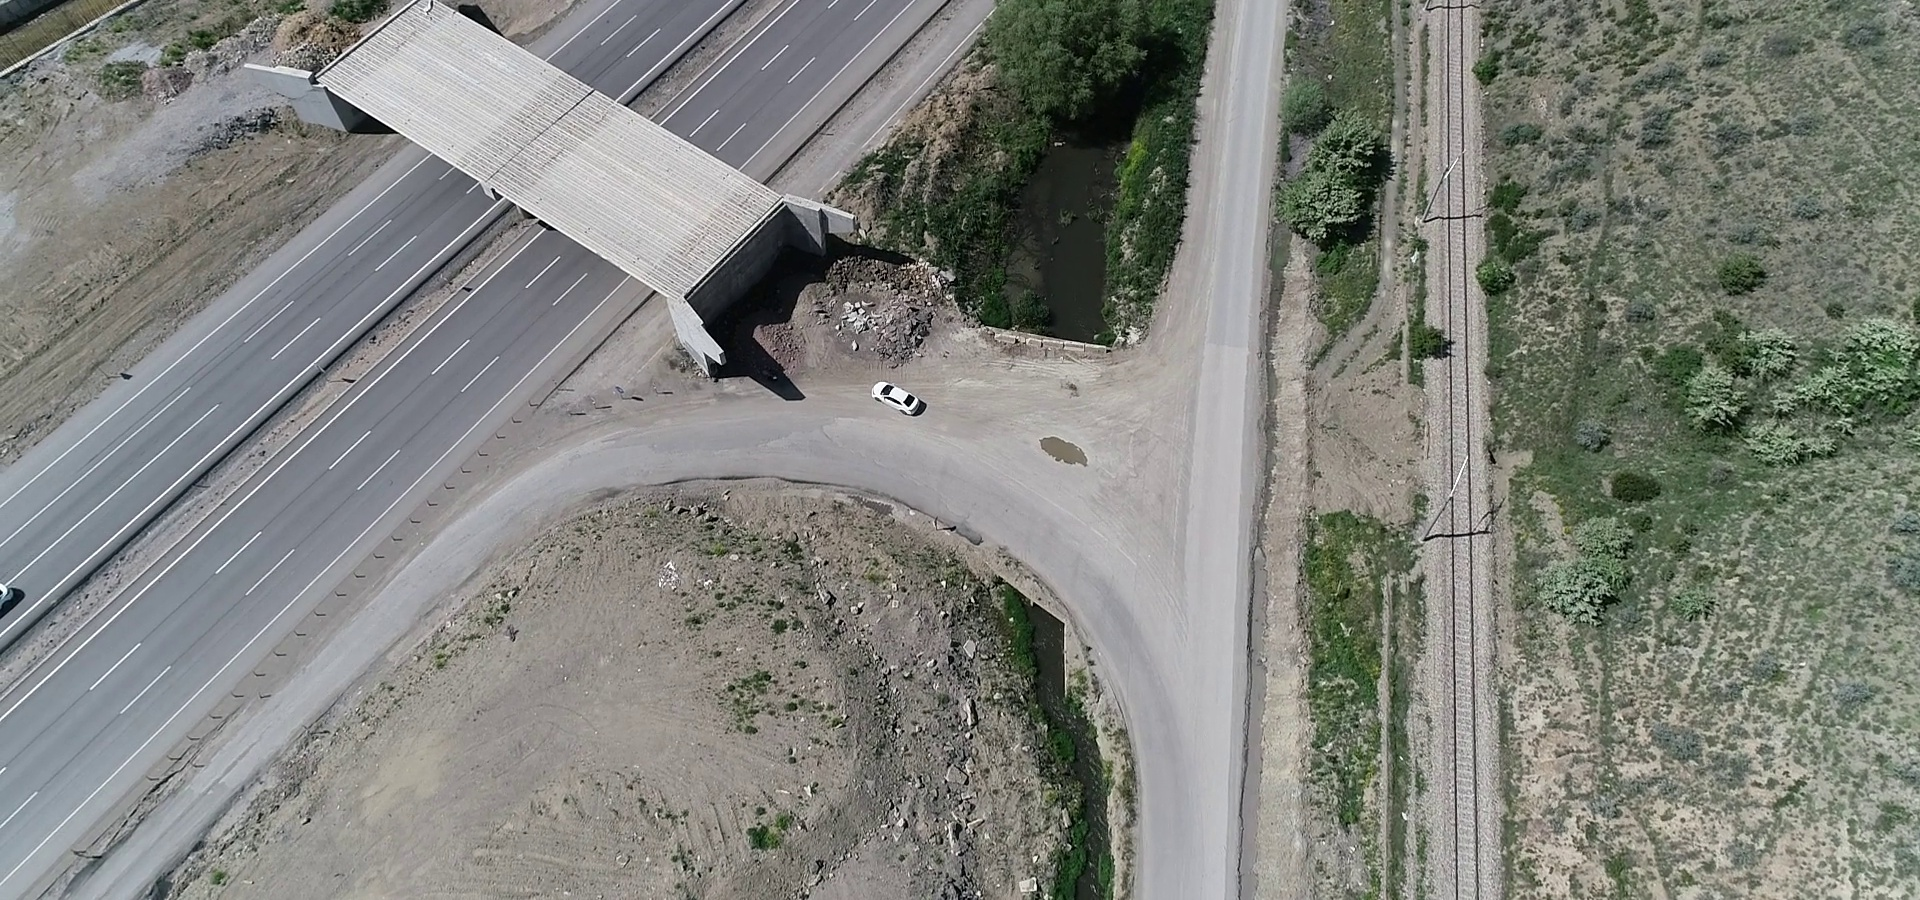arac: (860, 373, 931, 419)
